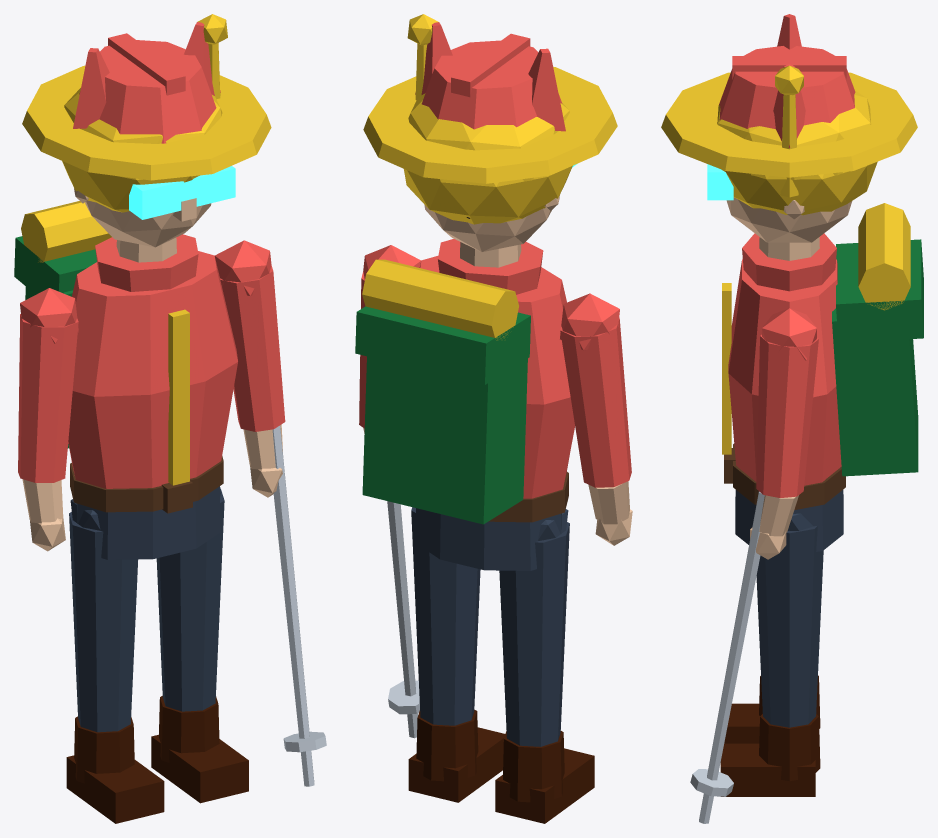
The model's file is hiker_human.glb.
The picture shows the model from 3 angles, left to right: view 1: azimuth 30°, elevation 25°; view 2: azimuth 150°, elevation 25°; view 3: azimuth 270°, elevation 25°; orthographic projection. The views are drawn at different scales.
Parts seen in each view (by area): view 1: HikerTorso, Hat_explorer, LegR, LegL, ArmL, ArmR, Hat_knight, Hat_mecha, HikerHead, Hat_neko; view 2: HikerTorso, Hat_explorer, LegR, LegL, ArmR, Hat_knight, ArmL, HikerHead, Hat_neko, Hat_mecha; view 3: HikerTorso, Hat_explorer, LegL, ArmL, Hat_knight, HikerHead, Hat_mecha, LegR, Hat_neko.
Part boxes in pixels (bbox=[...]): HikerTorso: bbox=[14, 201, 237, 559]; Hat_explorer: bbox=[22, 40, 271, 180]; LegR: bbox=[66, 499, 164, 823]; LegL: bbox=[151, 486, 248, 803]; ArmL: bbox=[215, 240, 326, 786]; ArmR: bbox=[18, 288, 78, 551]; Hat_knight: bbox=[62, 33, 222, 212]; Hat_mecha: bbox=[129, 14, 235, 219]; HikerHead: bbox=[74, 188, 211, 262]; Hat_neko: bbox=[73, 22, 220, 128]; HikerTorso: bbox=[355, 239, 574, 570]; Hat_explorer: bbox=[363, 40, 617, 183]; LegR: bbox=[495, 509, 594, 823]; LegL: bbox=[408, 507, 505, 802]; ArmR: bbox=[560, 293, 632, 545]; Hat_knight: bbox=[404, 33, 572, 224]; ArmL: bbox=[359, 245, 421, 738]; HikerHead: bbox=[424, 195, 559, 267]; Hat_neko: bbox=[415, 22, 565, 181]; Hat_mecha: bbox=[407, 14, 577, 167]; HikerTorso: bbox=[722, 203, 923, 551]; Hat_explorer: bbox=[661, 46, 917, 177]; LegL: bbox=[720, 513, 823, 796]; ArmL: bbox=[690, 308, 818, 823]; Hat_knight: bbox=[717, 56, 877, 215]; HikerHead: bbox=[726, 197, 852, 260]; Hat_mecha: bbox=[707, 65, 803, 200]; LegR: bbox=[724, 675, 820, 743]; Hat_neko: bbox=[746, 14, 842, 179].
Bounding box in the file's own units: 0.6348 × 1.7 × 0.5525.
